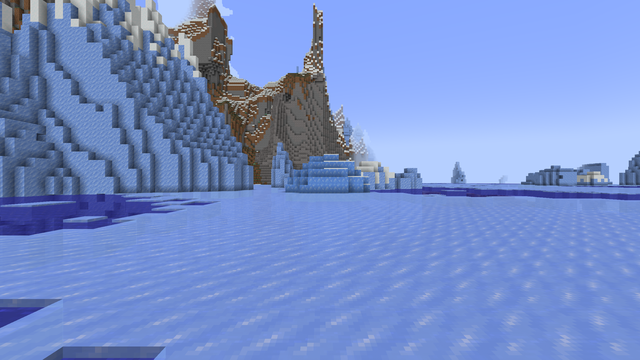creepers: (0, 103, 12, 116)
